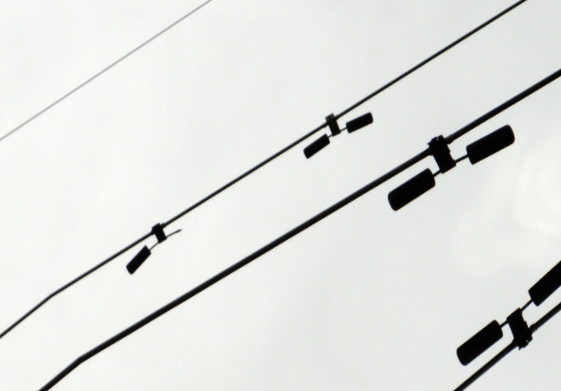damper: (384, 119, 517, 214), (300, 108, 374, 159)
damper_defect: (123, 221, 184, 277)
